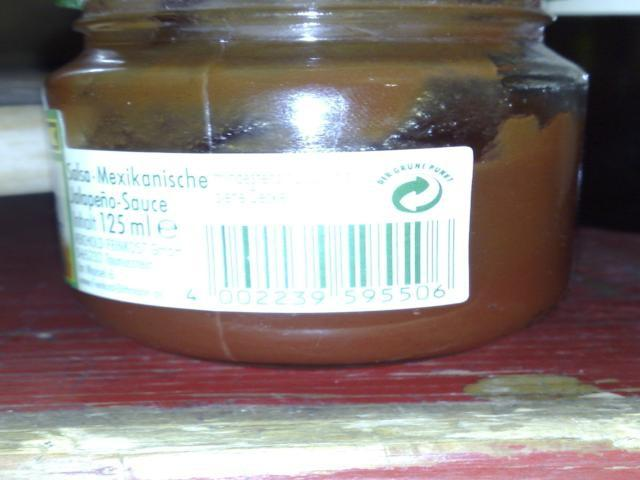Barcode: (183, 212, 463, 309)
